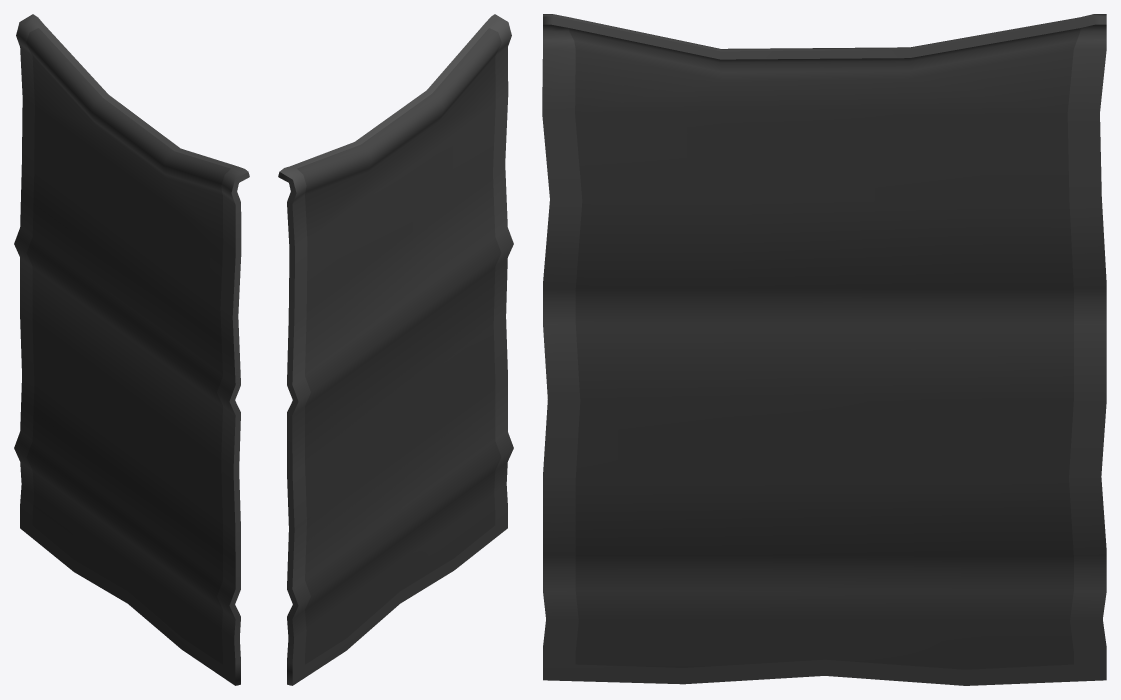
The model's file is Scaffold_sheet_2_8.fbx.
The picture shows the model from 3 angles, left to right: view 1: azimuth 30°, elevation 25°; view 2: azimuth 150°, elevation 25°; view 3: azimuth 270°, elevation 25°; orthographic projection. The views are drawn at different scales.
Parts seen in each view (by area): view 1: Scaffold_sheet_2_8; view 2: Scaffold_sheet_2_8; view 3: Scaffold_sheet_2_8.
Boxes of the visible parts, x1,y1,x2,y2 form: Scaffold_sheet_2_8: (14,14,249,685); Scaffold_sheet_2_8: (278,14,513,685); Scaffold_sheet_2_8: (542,14,1106,685).
Size of the model in its own units: 10.1 by 242 by 184.
